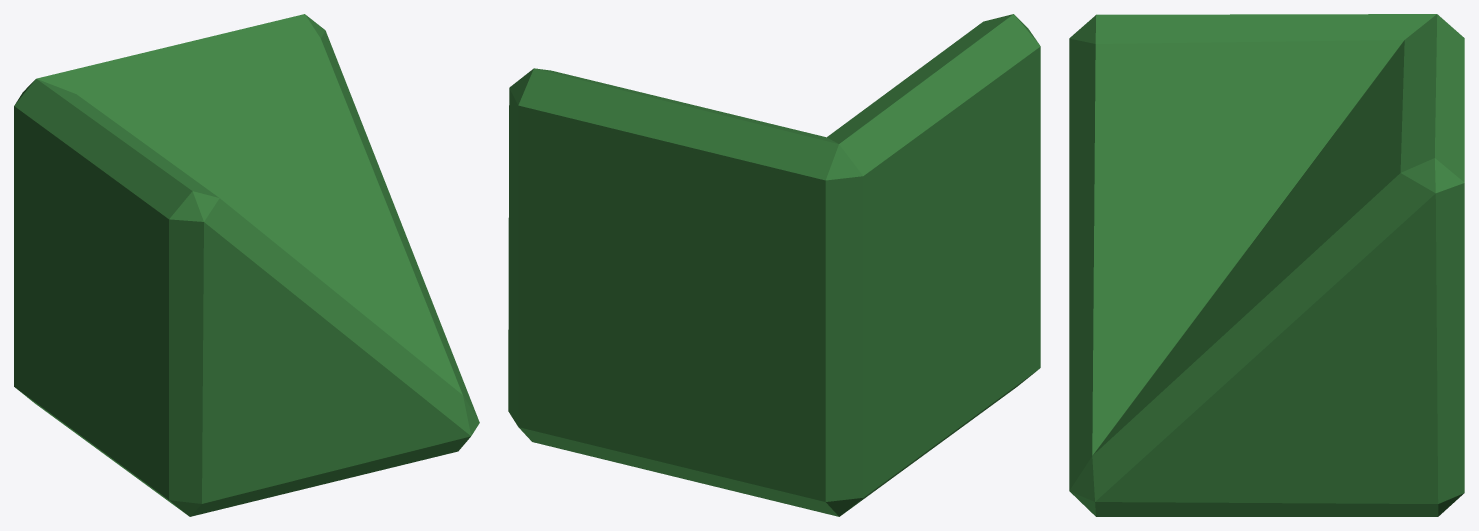
Rendered from m_kub_dung_diagonal_cornerIn.fbx.
3 renders of one model, left to right at view 1: azimuth 30°, elevation 25°; view 2: azimuth 150°, elevation 25°; view 3: azimuth 270°, elevation 25°, orthographic. The views are drawn at different scales.
Visible parts, largest first — view 1: m_kub_dung_diagonal_cornerIn; view 2: m_kub_dung_diagonal_cornerIn; view 3: m_kub_dung_diagonal_cornerIn.
Part boxes in pixels (x1,y1,x2,y2): m_kub_dung_diagonal_cornerIn: [14, 14, 479, 516]; m_kub_dung_diagonal_cornerIn: [508, 14, 1040, 516]; m_kub_dung_diagonal_cornerIn: [1069, 14, 1464, 516].
Size of the model in its own units: 2.15 by 2.15 by 2.15.
